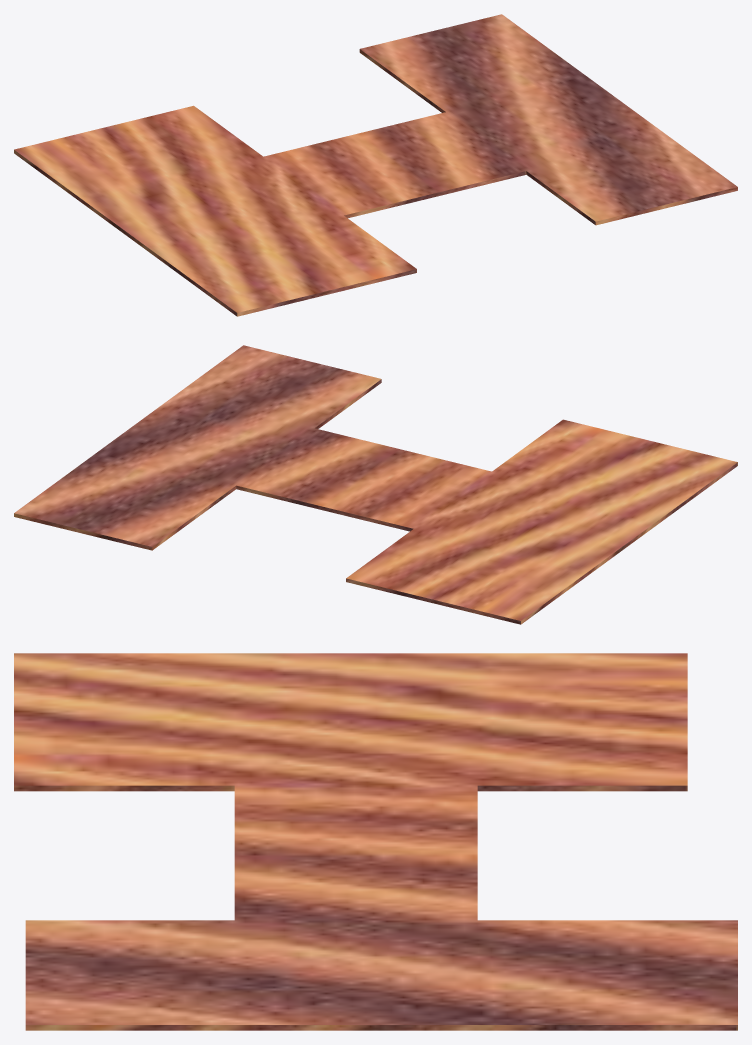
Rendered from pisoPuzzlle 3.fbx.
3 renders of one model, top to bottom at view 1: azimuth 30°, elevation 25°; view 2: azimuth 150°, elevation 25°; view 3: azimuth 270°, elevation 25°, orthographic. The views are drawn at different scales.
Parts seen in each view (by area): view 1: Cube; view 2: Cube; view 3: Cube.
Boxes of the visible parts, bbox=[...] form: Cube: bbox=[14, 14, 737, 316]; Cube: bbox=[14, 345, 737, 624]; Cube: bbox=[14, 653, 737, 1030].
Bounding box in the file's own units: 109301 × 782 × 90011.
